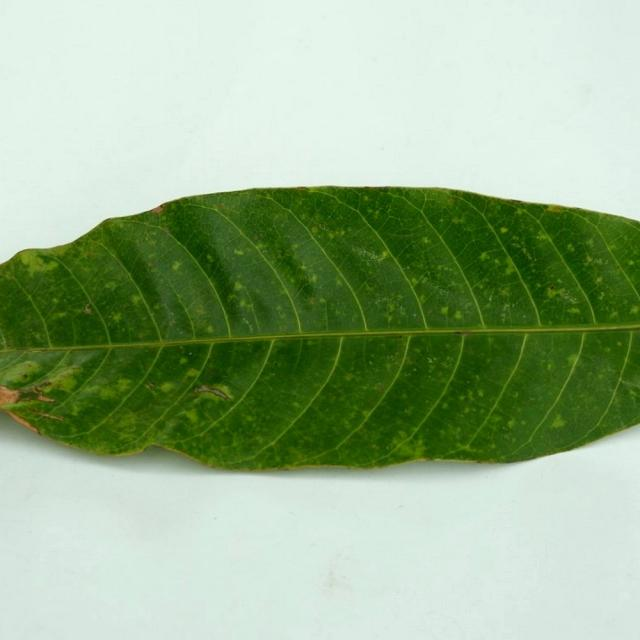Mango: (0, 187, 639, 470)
Powdery_Mildew: (53, 419, 151, 455), (389, 422, 429, 462), (331, 402, 375, 434), (318, 556, 354, 595), (226, 285, 260, 323), (506, 236, 544, 267), (16, 250, 58, 278), (311, 223, 353, 243), (196, 383, 235, 402), (53, 375, 82, 394), (96, 387, 118, 401), (501, 302, 518, 320), (182, 408, 201, 424), (158, 381, 178, 393), (385, 299, 397, 319), (550, 415, 565, 429), (184, 368, 201, 380), (546, 286, 560, 299), (498, 285, 512, 298), (566, 354, 579, 366), (103, 281, 119, 290), (82, 303, 94, 315), (144, 381, 158, 391), (171, 261, 183, 272), (68, 364, 82, 373), (53, 312, 68, 320), (504, 265, 515, 275), (111, 312, 122, 322), (547, 206, 564, 212), (479, 251, 490, 260), (233, 282, 244, 291), (254, 241, 265, 250), (537, 232, 548, 241), (233, 248, 245, 256), (567, 307, 580, 314), (506, 418, 515, 428), (453, 310, 462, 320), (440, 305, 449, 315), (132, 295, 142, 304), (610, 310, 620, 319), (404, 406, 413, 415), (344, 373, 354, 381), (585, 239, 595, 247), (166, 319, 176, 327), (508, 199, 524, 204), (634, 388, 640, 401), (309, 274, 317, 283), (380, 251, 389, 259), (179, 357, 188, 365), (206, 255, 214, 264), (195, 309, 207, 315), (421, 237, 431, 244), (595, 276, 603, 284), (410, 278, 418, 286), (148, 259, 156, 267), (293, 401, 302, 408), (566, 243, 574, 250), (291, 243, 299, 250), (206, 325, 213, 333), (335, 279, 343, 286), (634, 305, 640, 314), (319, 297, 326, 304), (494, 259, 501, 266), (311, 227, 318, 234), (598, 292, 605, 299), (447, 198, 454, 205), (252, 234, 259, 241), (500, 227, 508, 233), (427, 357, 435, 363), (309, 298, 317, 304), (478, 390, 484, 397), (628, 260, 635, 266), (363, 195, 370, 201), (616, 341, 623, 347), (377, 387, 384, 393), (218, 202, 225, 208), (475, 459, 485, 463), (276, 305, 282, 311), (279, 325, 286, 330), (22, 374, 28, 379), (368, 361, 373, 365)
